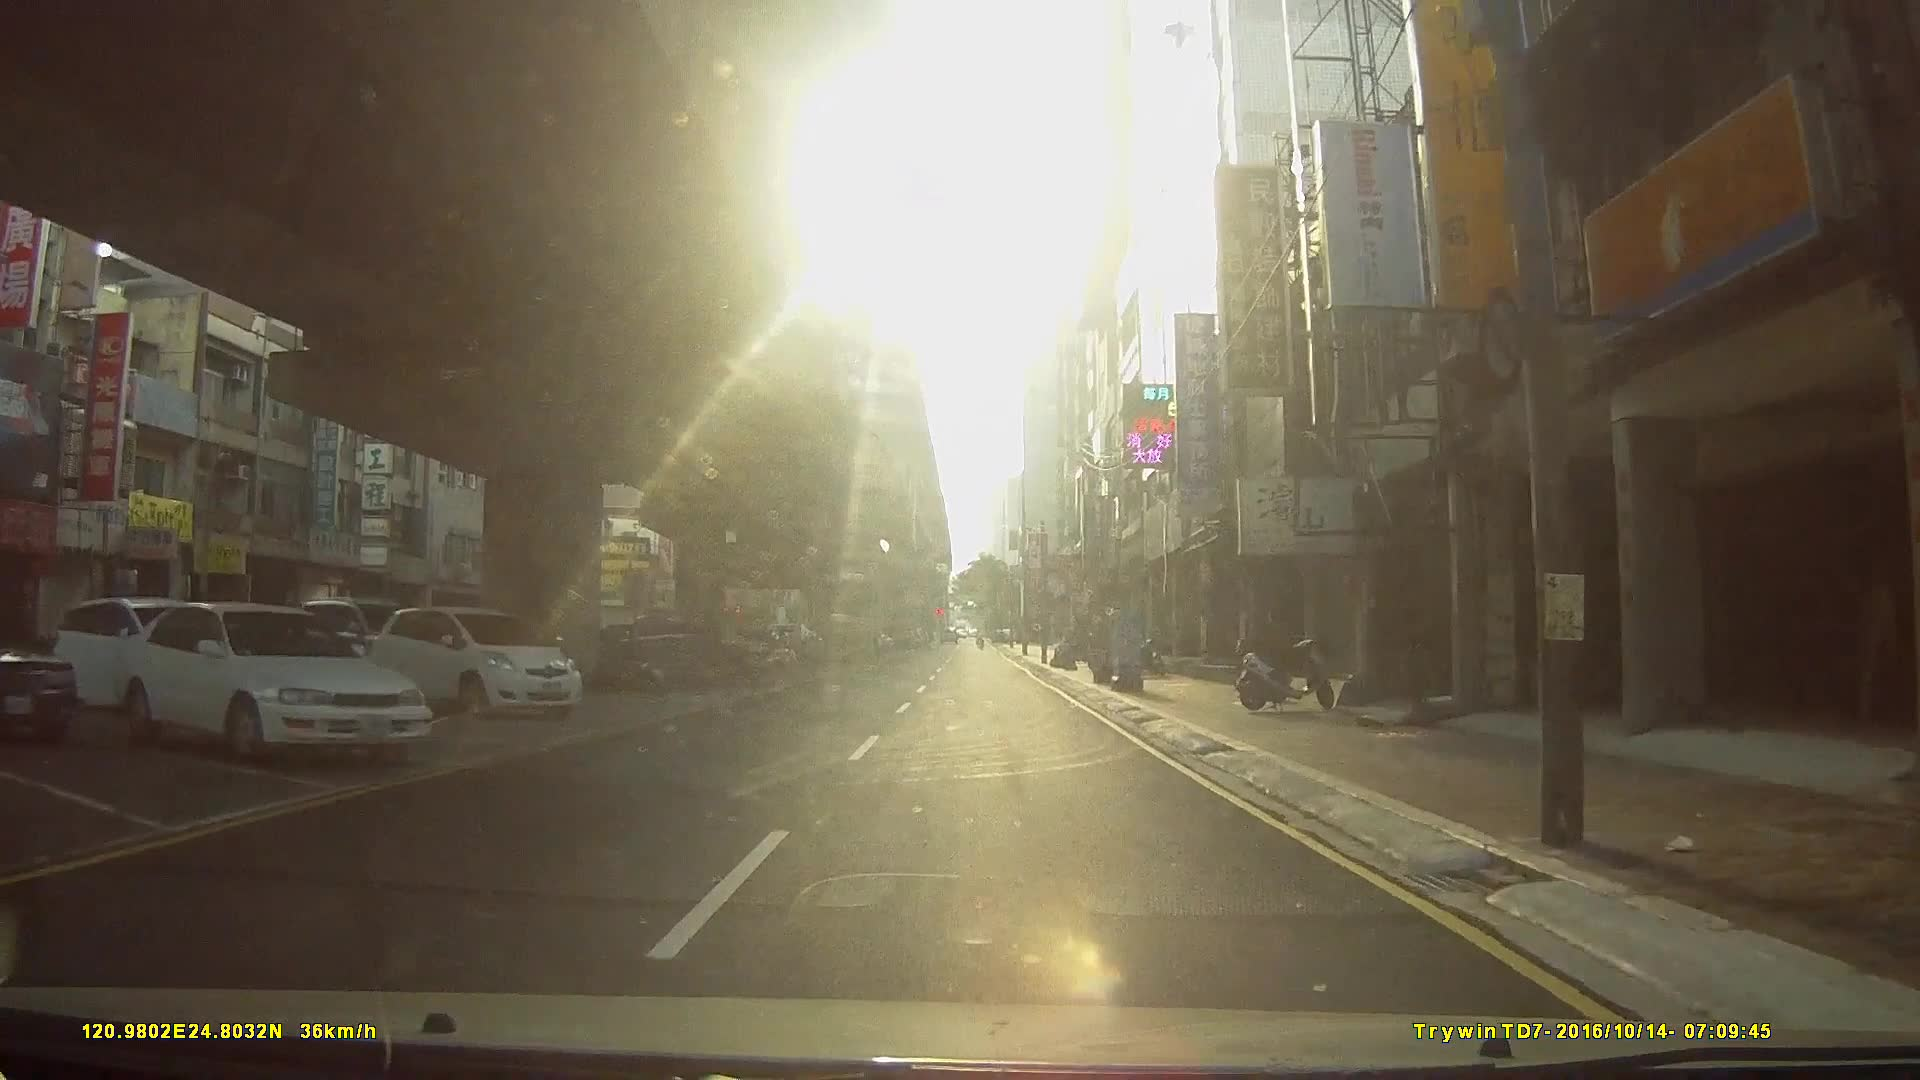vehicle: (113, 603, 433, 767), (368, 603, 585, 717), (45, 599, 222, 713), (0, 616, 80, 745)
